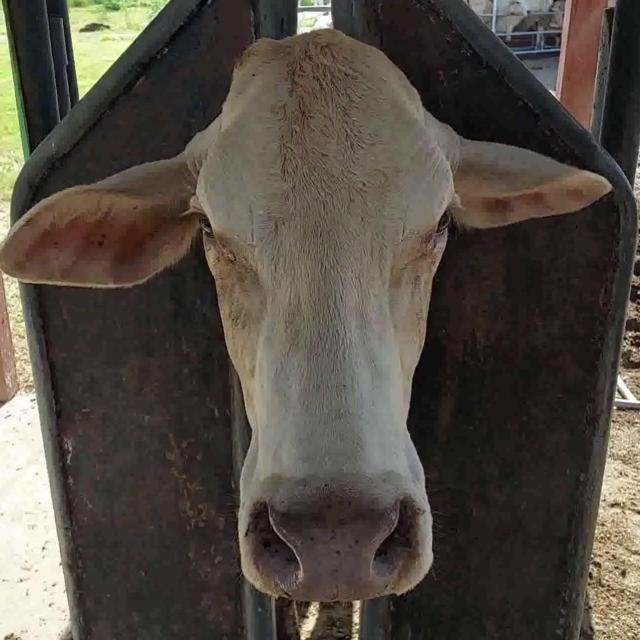cowFace: (189, 31, 461, 597)
